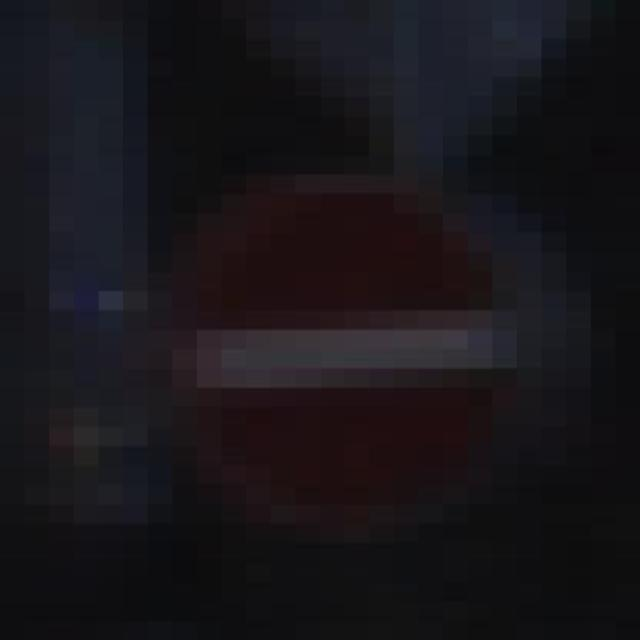No Entry: (138, 122, 582, 529)
